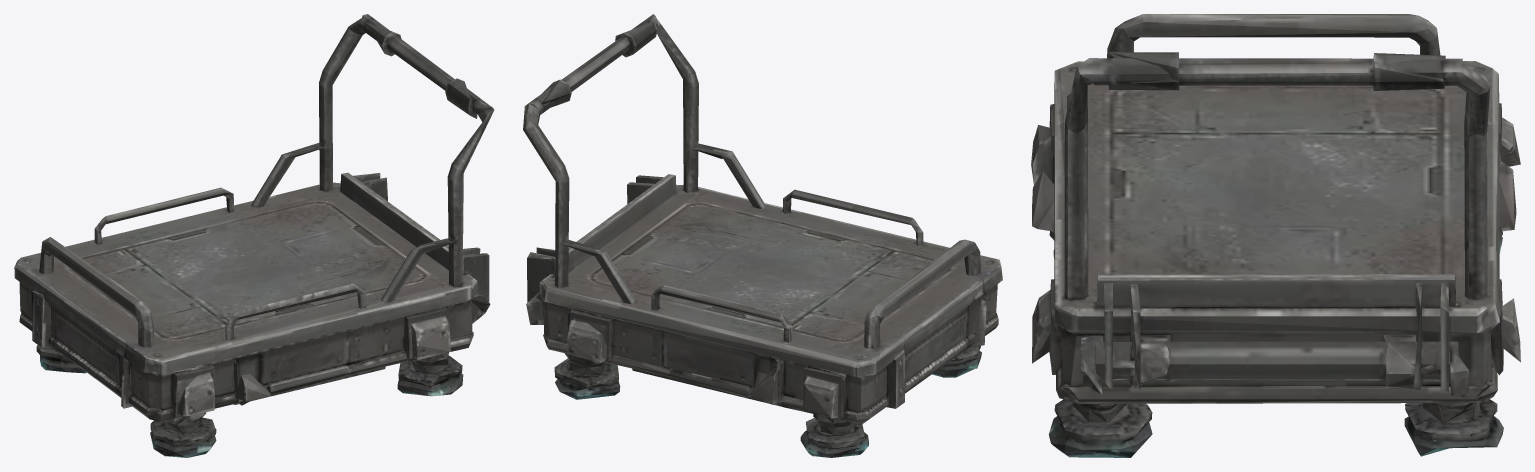
File: prop.hover_cart.glb
3 views of the same model, side by side, from view 1: azimuth 30°, elevation 25°; view 2: azimuth 150°, elevation 25°; view 3: azimuth 270°, elevation 25° (orthographic). The views are drawn at different scales.
Parts seen in each view (by area): view 1: body; view 2: body; view 3: body.
Part boxes in pixels (left/top/right/bottom): body: left=14, top=14, right=494, bottom=457; body: left=523, top=14, right=1002, bottom=457; body: left=1031, top=14, right=1520, bottom=457.
Size of the model in its own units: 1 by 0.7502 by 0.7688.
Materials: 1 (1 with a texture image).
